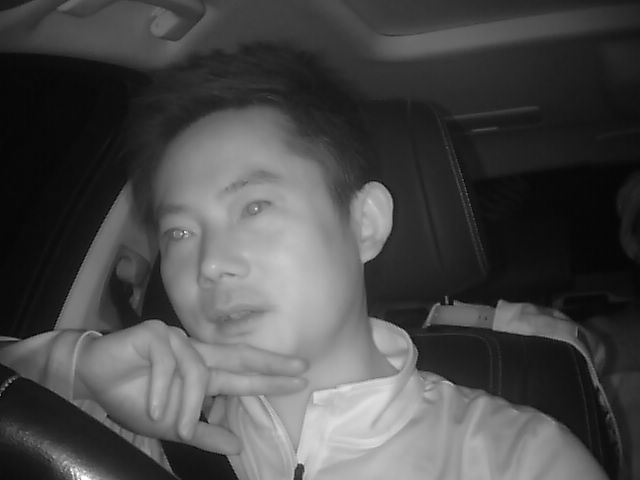hand: (110, 319, 300, 458)
